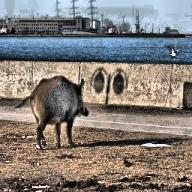boar: (16, 74, 89, 150)
